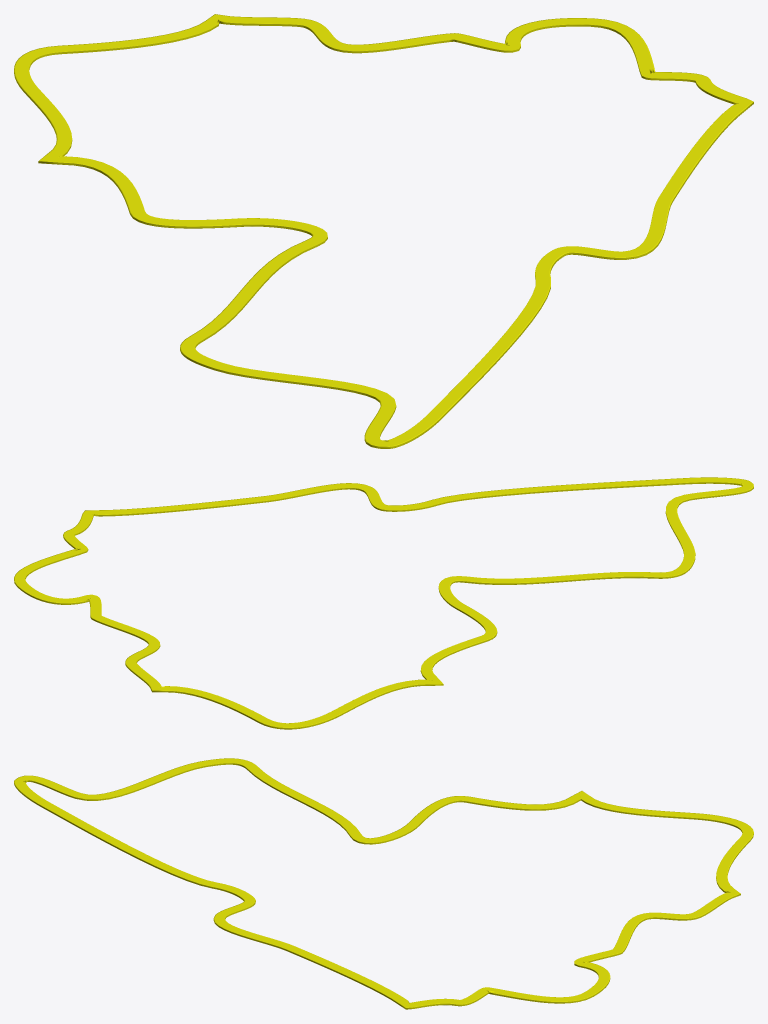
File: lenta3.dae
3 views of the same model, one above another, from view 1: azimuth 30°, elevation 25°; view 2: azimuth 150°, elevation 25°; view 3: azimuth 270°, elevation 25° (orthographic). The views are drawn at different scales.
Visible parts, largest first — view 1: BezierCurve_002; view 2: BezierCurve_002; view 3: BezierCurve_002.
Part boxes in pixels (x1=…): BezierCurve_002: x1=14, y1=14, x2=753, y2=448; BezierCurve_002: x1=14, y1=477, x2=753, y2=729; BezierCurve_002: x1=14, y1=758, x2=753, y2=1009.
Bounding box in the file's own units: 3.45 × 4.32 × 0.01.
